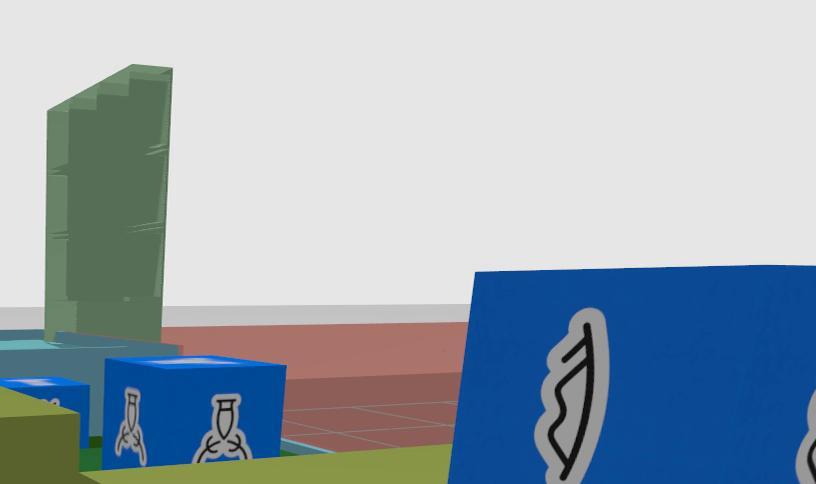KFS_REAL: (447, 267, 815, 484), (100, 356, 284, 468), (533, 308, 607, 484), (0, 377, 90, 445), (193, 395, 251, 461), (115, 388, 145, 465)
